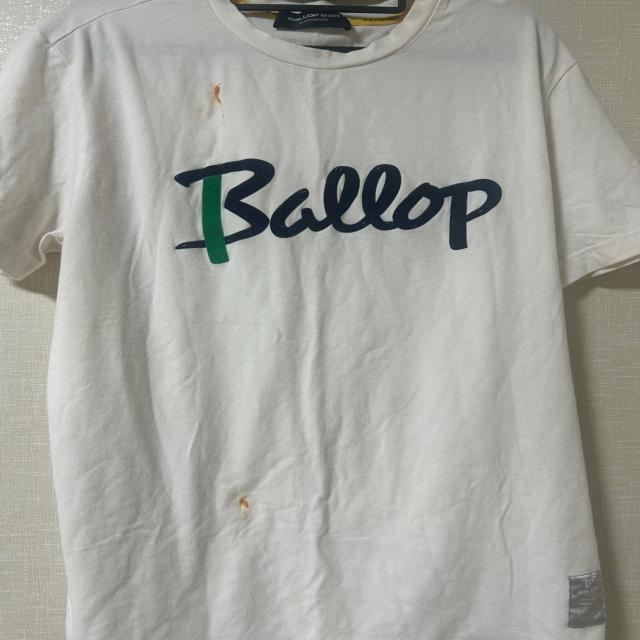stain: (234, 494, 256, 510), (211, 86, 225, 105), (221, 113, 227, 126), (197, 108, 204, 119)
